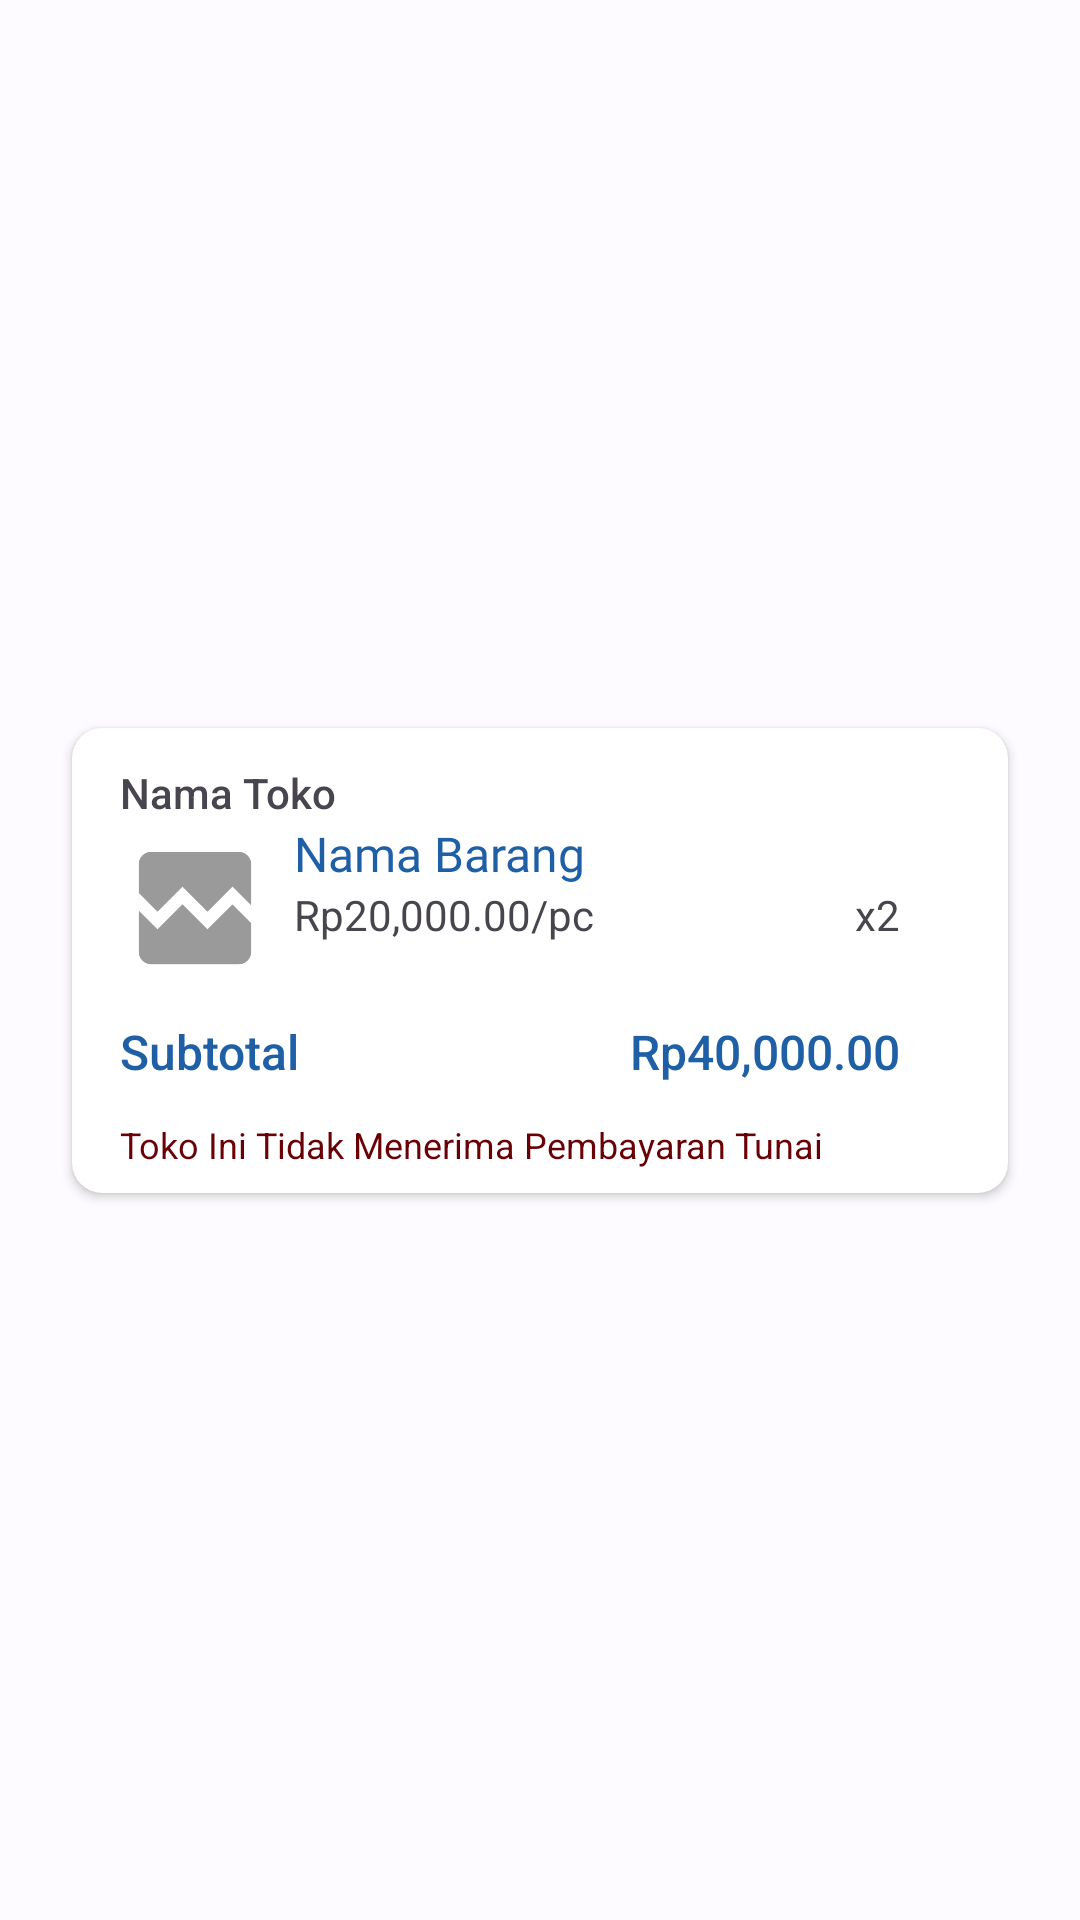

Where icons sit on this 1080x1920 app screen, as (x1, y1, x2, y2):
broken: (139, 852, 251, 964)
